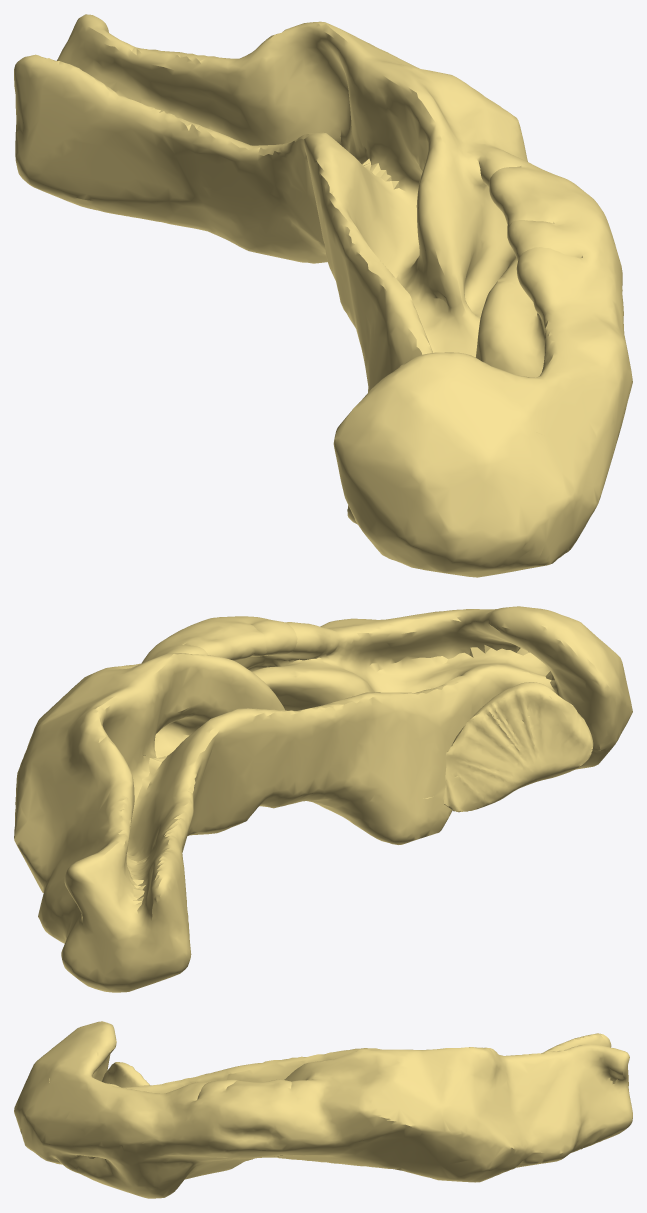
The model's file is fma72688_fj7473.glb.
3 views of the same model, one above another, from view 1: azimuth 30°, elevation 25°; view 2: azimuth 150°, elevation 25°; view 3: azimuth 270°, elevation 25° (orthographic). The views are drawn at different scales.
Parts seen in each view (by area): view 1: FMA72688_FJ7473; view 2: FMA72688_FJ7473; view 3: FMA72688_FJ7473.
Boxes of the visible parts, bbox=[...] form: FMA72688_FJ7473: bbox=[14, 14, 632, 577]; FMA72688_FJ7473: bbox=[14, 606, 632, 992]; FMA72688_FJ7473: bbox=[14, 1021, 632, 1198].
Bounding box in the file's own units: 0.0435 × 0.0292 × 0.0956.
